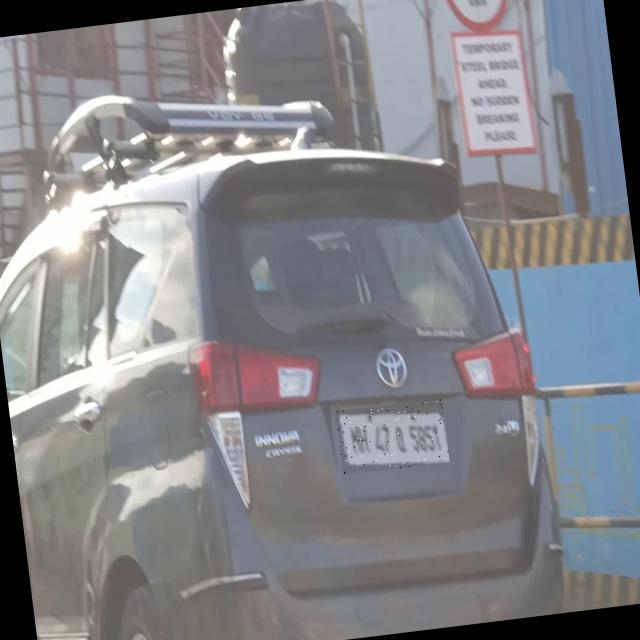Plate: (336, 399, 450, 476)
